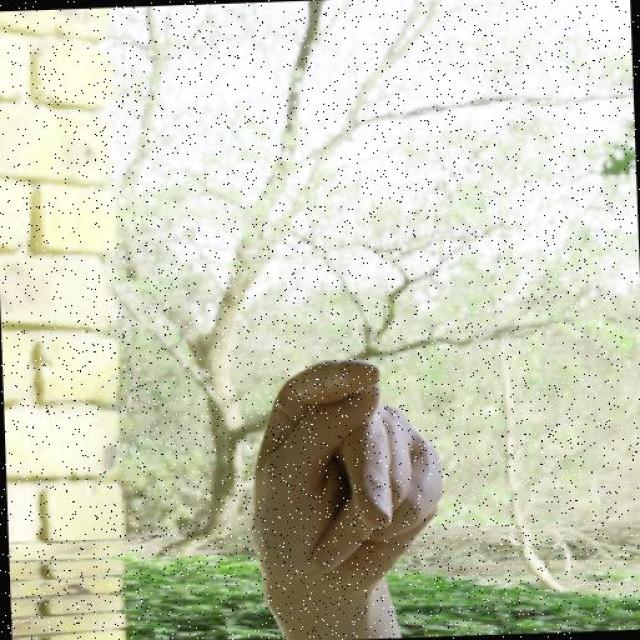P: (244, 349, 448, 640)
